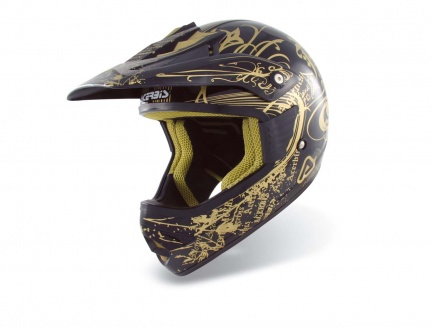helmet: (78, 35, 337, 270)
